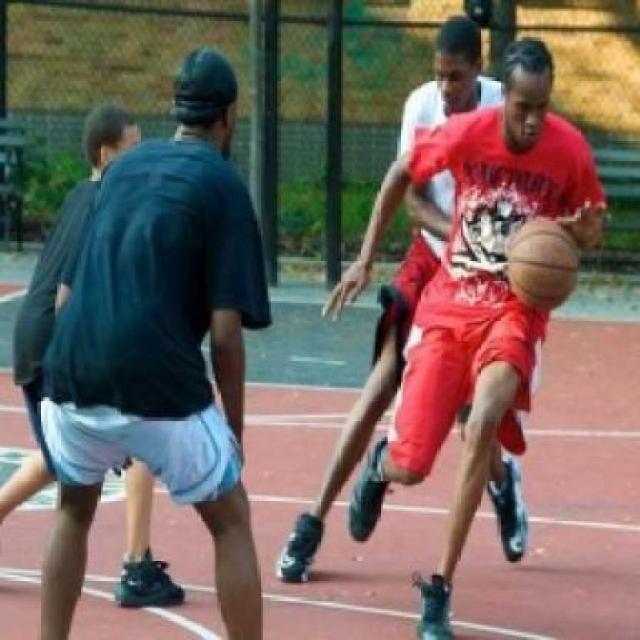ball: (499, 217, 586, 312)
person: (323, 34, 614, 640), (274, 0, 529, 585), (31, 41, 274, 640), (0, 98, 186, 610)
